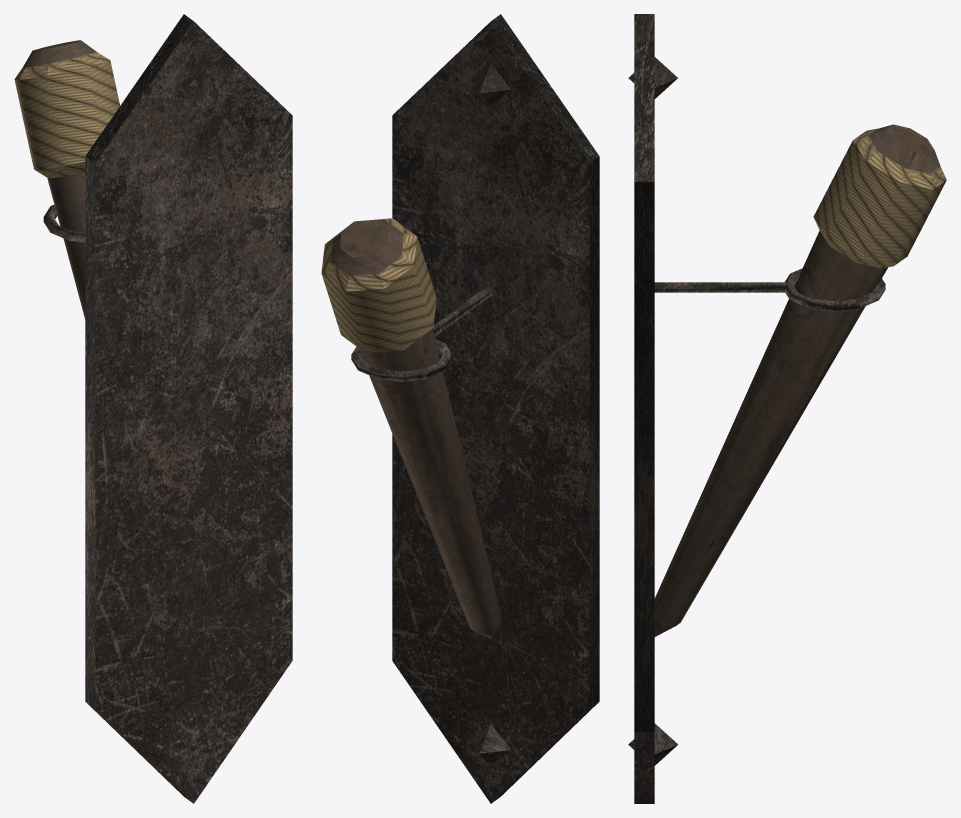
The model's file is WallTorch.FBX.
The picture shows the model from 3 angles, left to right: view 1: azimuth 30°, elevation 25°; view 2: azimuth 150°, elevation 25°; view 3: azimuth 270°, elevation 25°; orthographic projection.
Parts seen in each view (by area): view 1: WallTorch; view 2: WallTorch; view 3: WallTorch.
Part boxes in pixels (x1=…): WallTorch: x1=14, y1=14, x2=292, y2=803; WallTorch: x1=321, y1=14, x2=599, y2=803; WallTorch: x1=628, y1=14, x2=946, y2=803.
Bounding box in the file's own units: 46.01 × 174 × 63.78.
